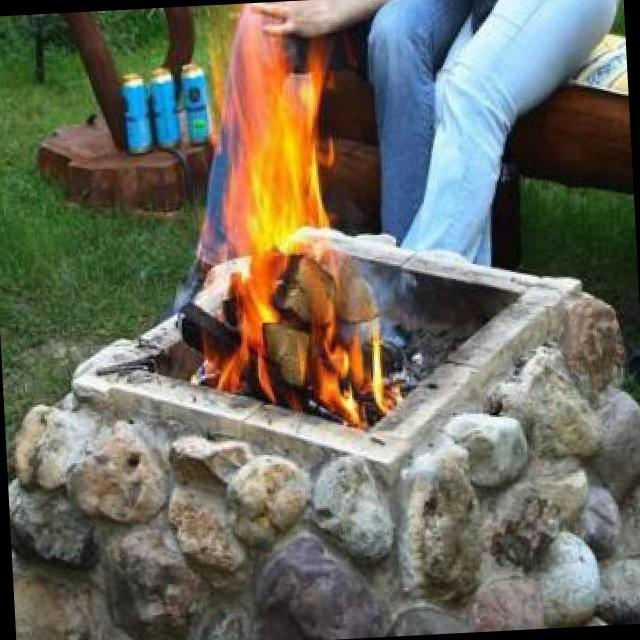Fire: (190, 21, 398, 436)
